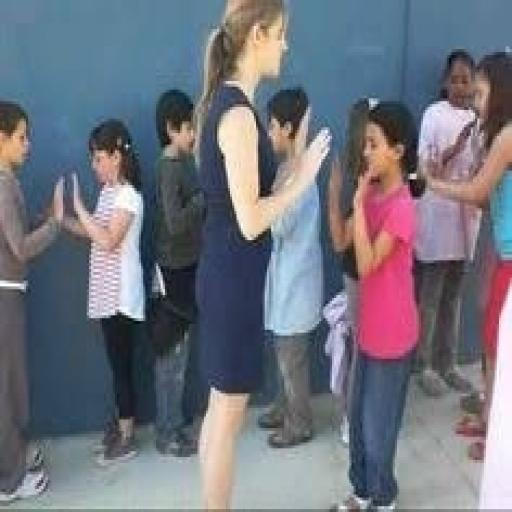clapping: (189, 0, 332, 509), (334, 96, 423, 509), (58, 116, 152, 466), (0, 98, 67, 503)
